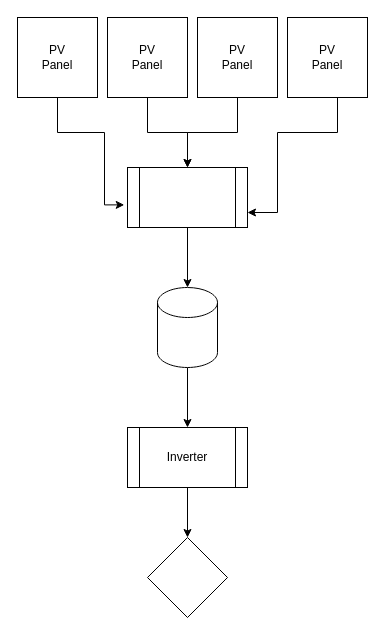
Some shapes in this 385 by 635 pixel diagram are drawn without their labels. Here are the shapes that lost their labels. From the top down, the centre of each, then its label:
At point (187, 197): "Charge Controller".
At point (187, 327): "Storage Bank".
At point (187, 577): "Electrical Load".
